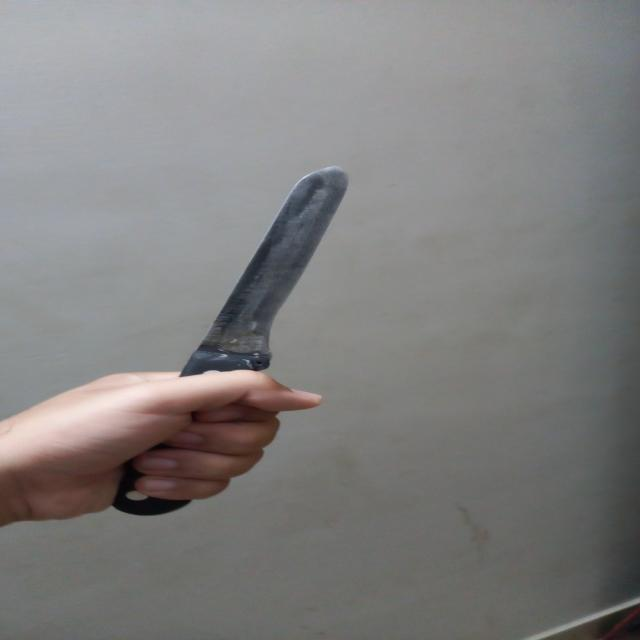Knife: (120, 153, 360, 524)
